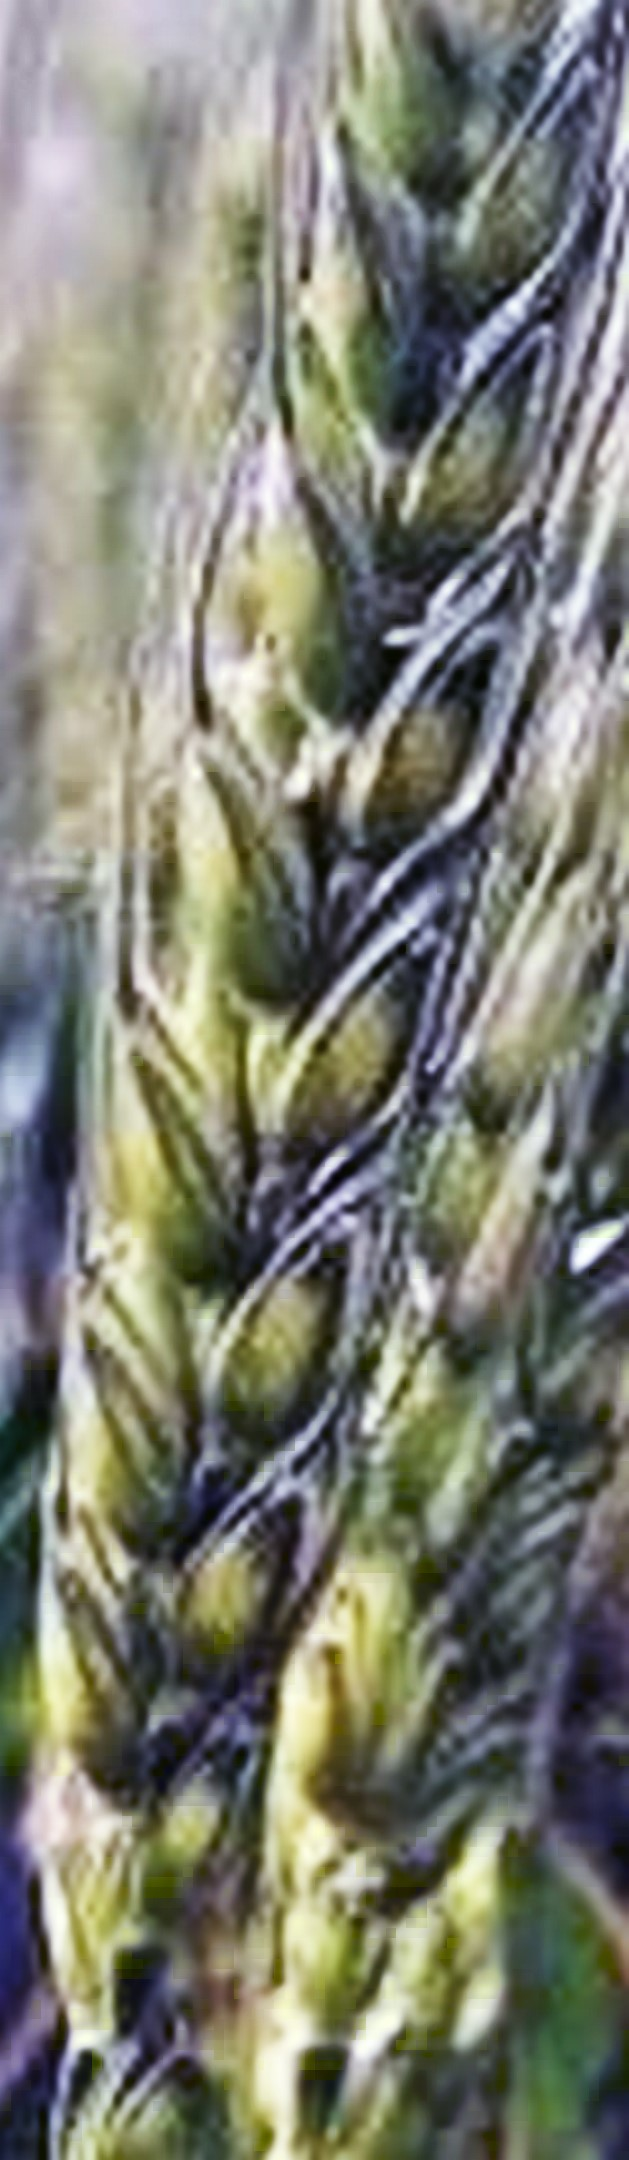Healthy Wheat: (39, 3, 629, 1818)
